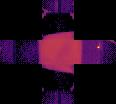earth: (38, 31, 82, 73)
